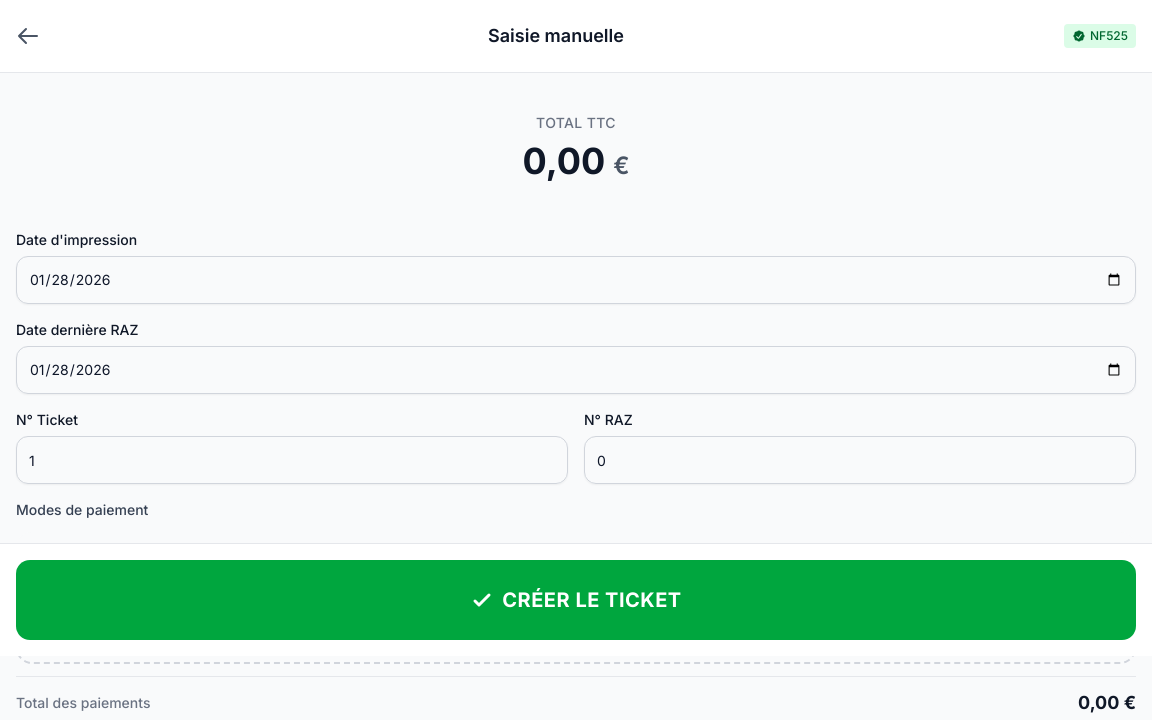
ManualEntryClient › form submission › should handle ticket creation failure and display error
Expected: the date field labelled "Date d'impression" is shown, [16, 256, 1136, 304]
Click the button "CRÉER LE TICKET" at (576, 600), box [16, 560, 1136, 640]
(page scrolled)
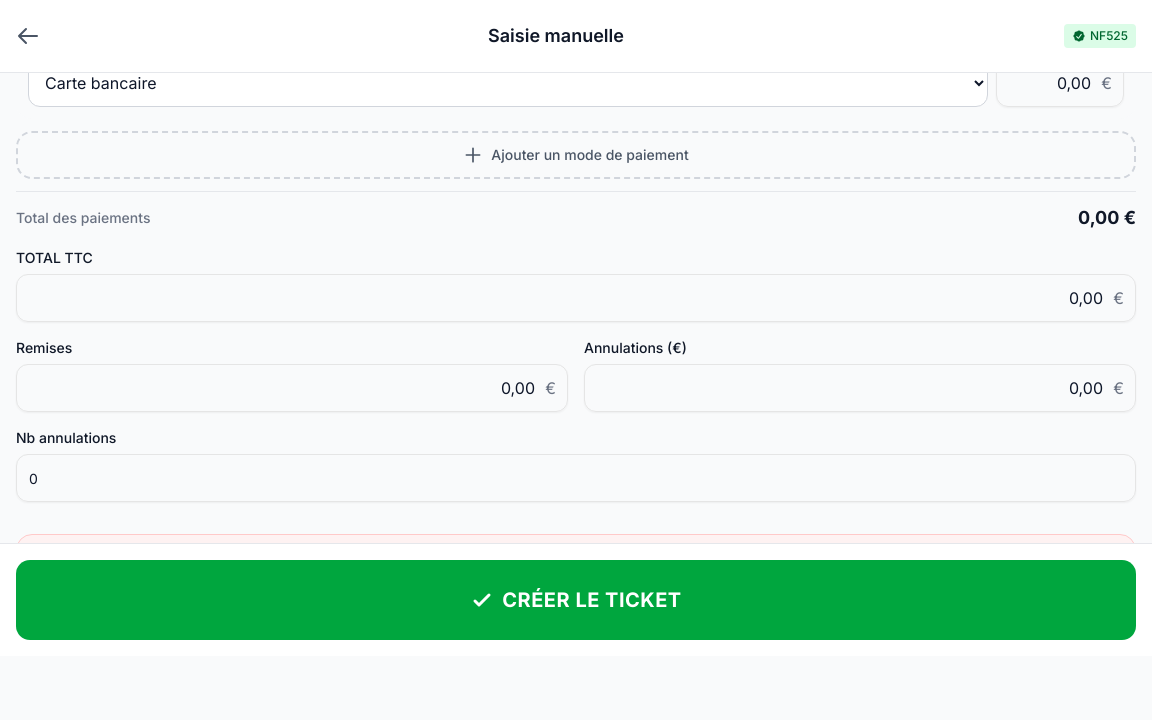
Expected: the text "Database error" is shown, [29, 561, 128, 581]
Expected: the message "Database error" is shown, [16, 534, 1136, 608]
